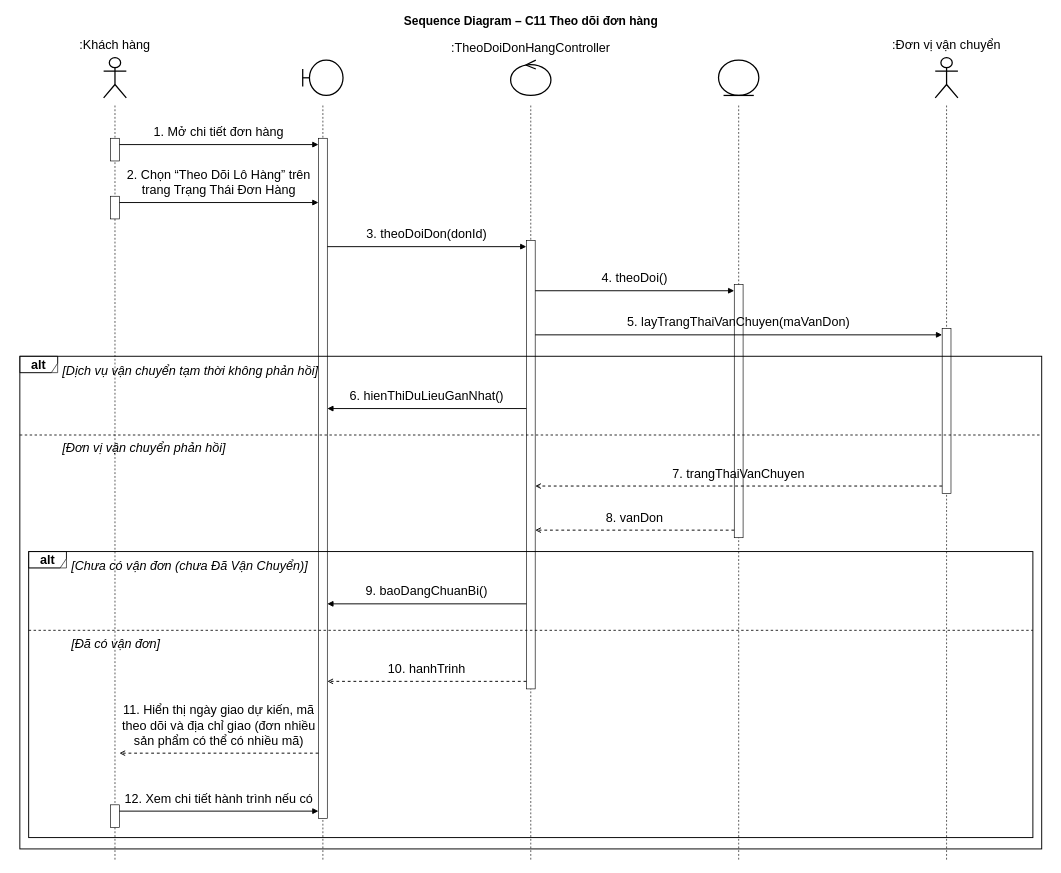
Image size: 1061x873. Some labels were removed from this diagram. The centre of each missing label's shape, as x and y in pixels:
":TheoDoiDonHangPage" goes at point (322, 77).
":VanChuyen" goes at point (738, 77).
